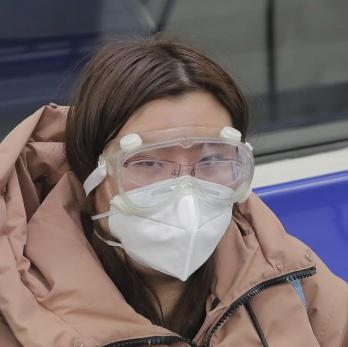OK: (105, 122, 238, 282)
